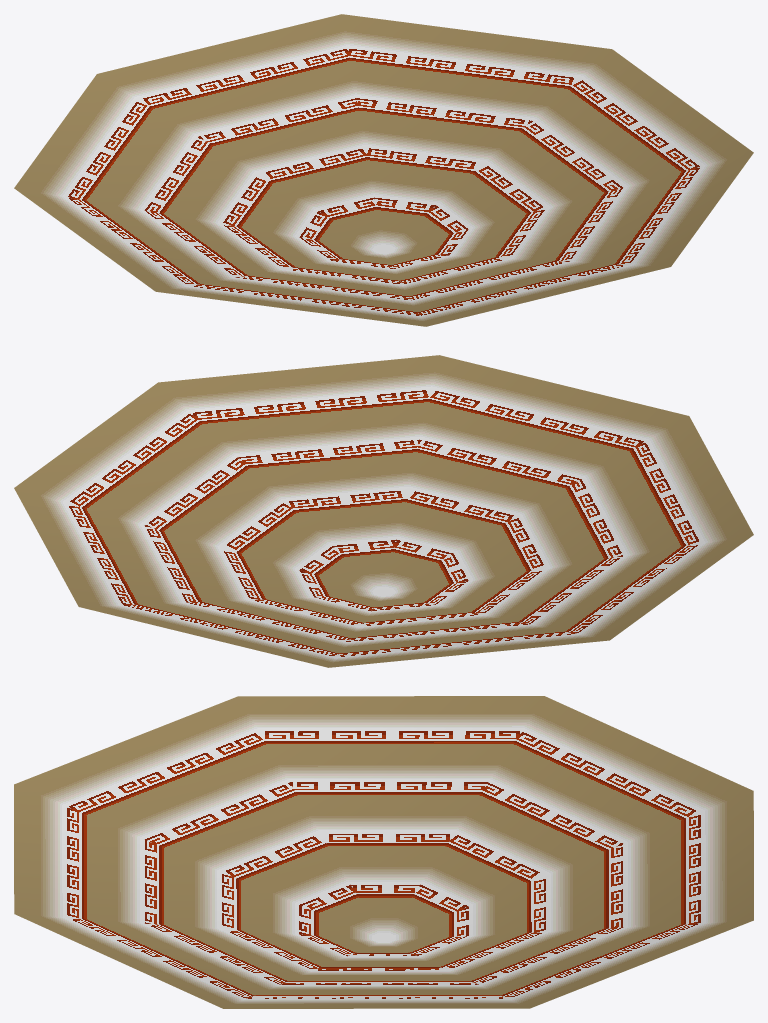
The model's file is 1078item549.gltf.
The picture shows the model from 3 angles, top to bottom: view 1: azimuth 30°, elevation 25°; view 2: azimuth 150°, elevation 25°; view 3: azimuth 270°, elevation 25°; orthographic projection. The views are drawn at different scales.
Parts seen in each view (by area): view 1: 1078item549; view 2: 1078item549; view 3: 1078item549.
Part boxes in pixels (box(x1,y1,x2,y2)): 1078item549: box(14, 14, 753, 326); 1078item549: box(14, 355, 753, 667); 1078item549: box(14, 696, 753, 1008).
Size of the model in its own units: 0.9194 by 0.1208 by 0.9194.
1 material, 1 textured.
